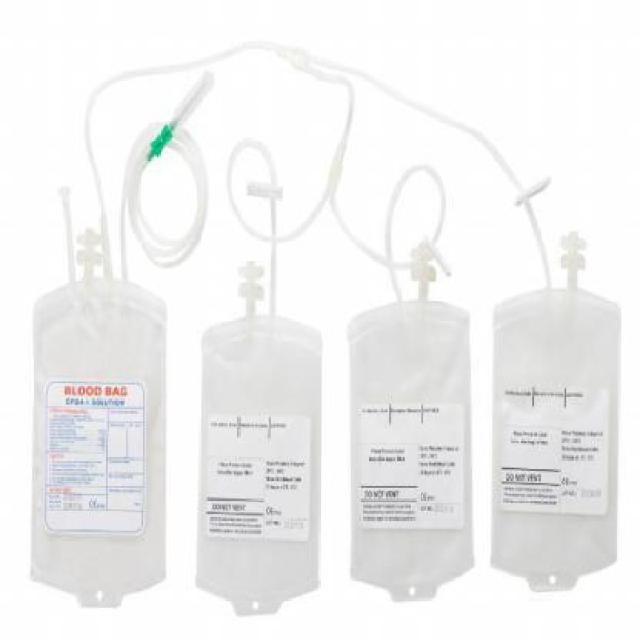B3: (24, 269, 170, 613), (491, 286, 623, 596), (344, 299, 478, 604), (194, 312, 323, 620)
